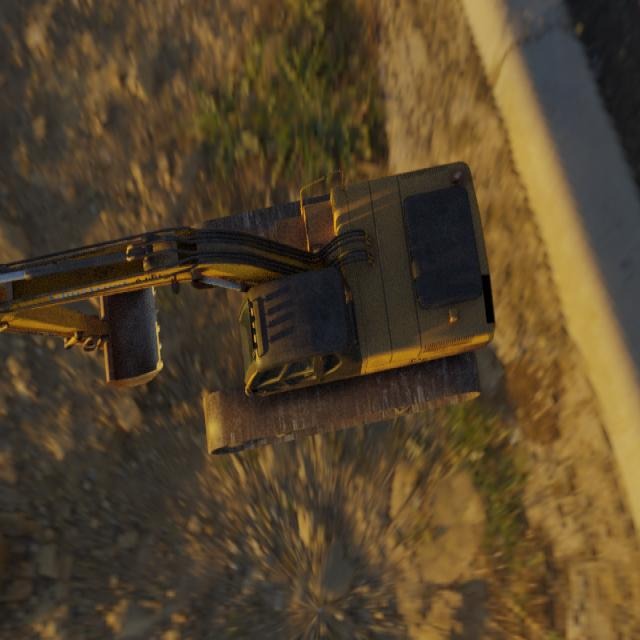excavator: (0, 160, 497, 455)
